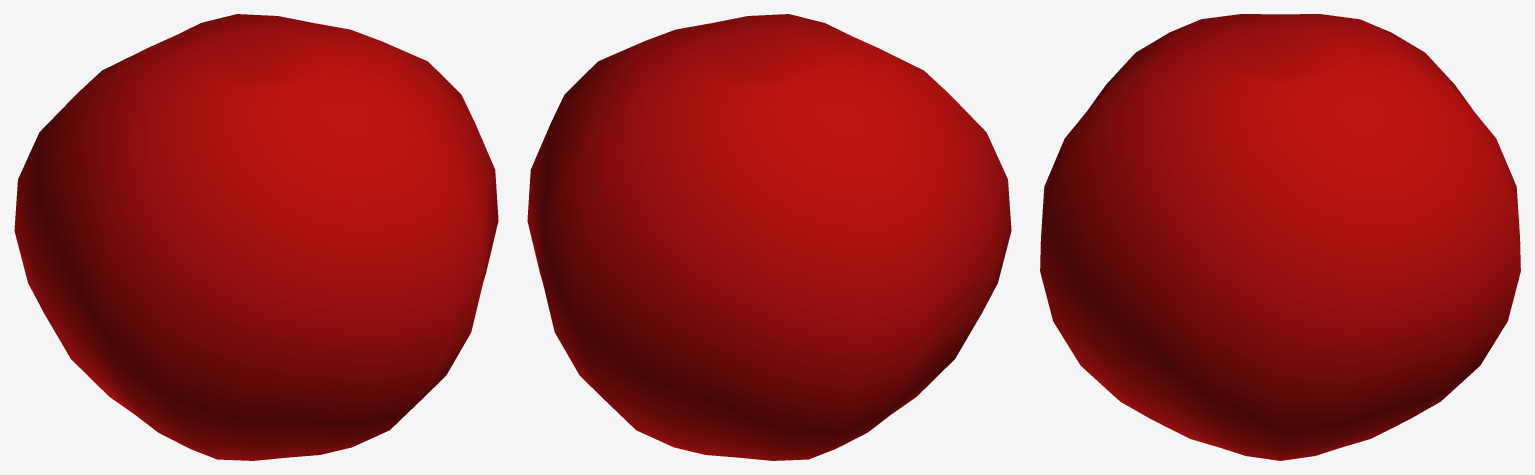
Rendered from apple_ripe.dae.
3 renders of one model, left to right at view 1: azimuth 30°, elevation 25°; view 2: azimuth 150°, elevation 25°; view 3: azimuth 270°, elevation 25°, orthographic.
Visible parts, largest first — view 1: Tree; view 2: Tree; view 3: Tree.
Boxes of the visible parts, x1,y1,x2,y2 form: Tree: [14, 14, 498, 460]; Tree: [527, 14, 1011, 460]; Tree: [1040, 14, 1520, 460].
Bounding box in the file's own units: 2.01 × 2.01 × 1.71.
